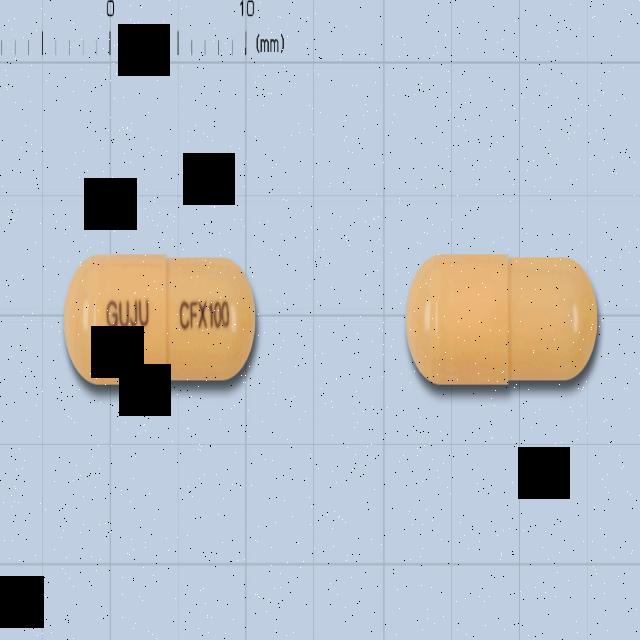Cefsin Cap: (60, 246, 261, 395)
